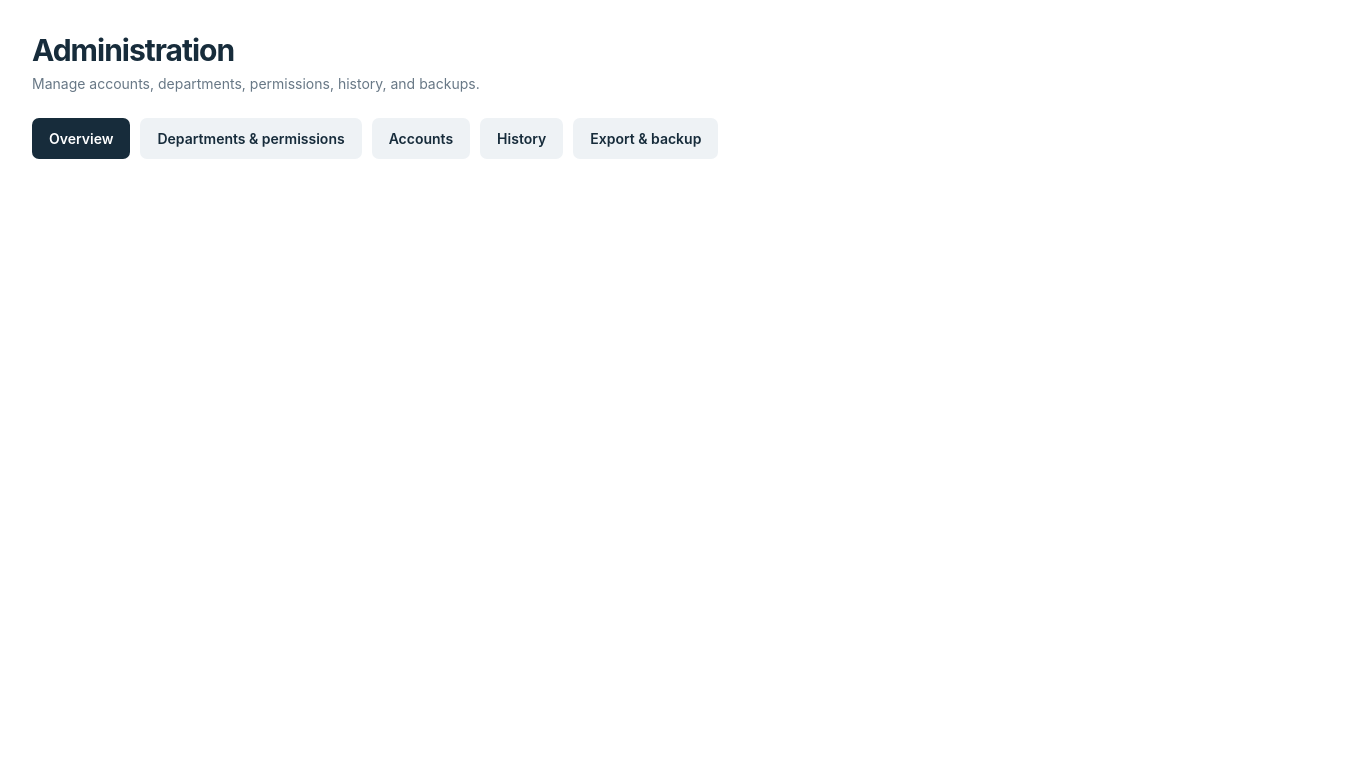
Test: admin can disable and enable an account with explicit confirmation
Click the tab "Accounts".
click(421, 138)  # box [372,118,470,159]
(page scrolled)
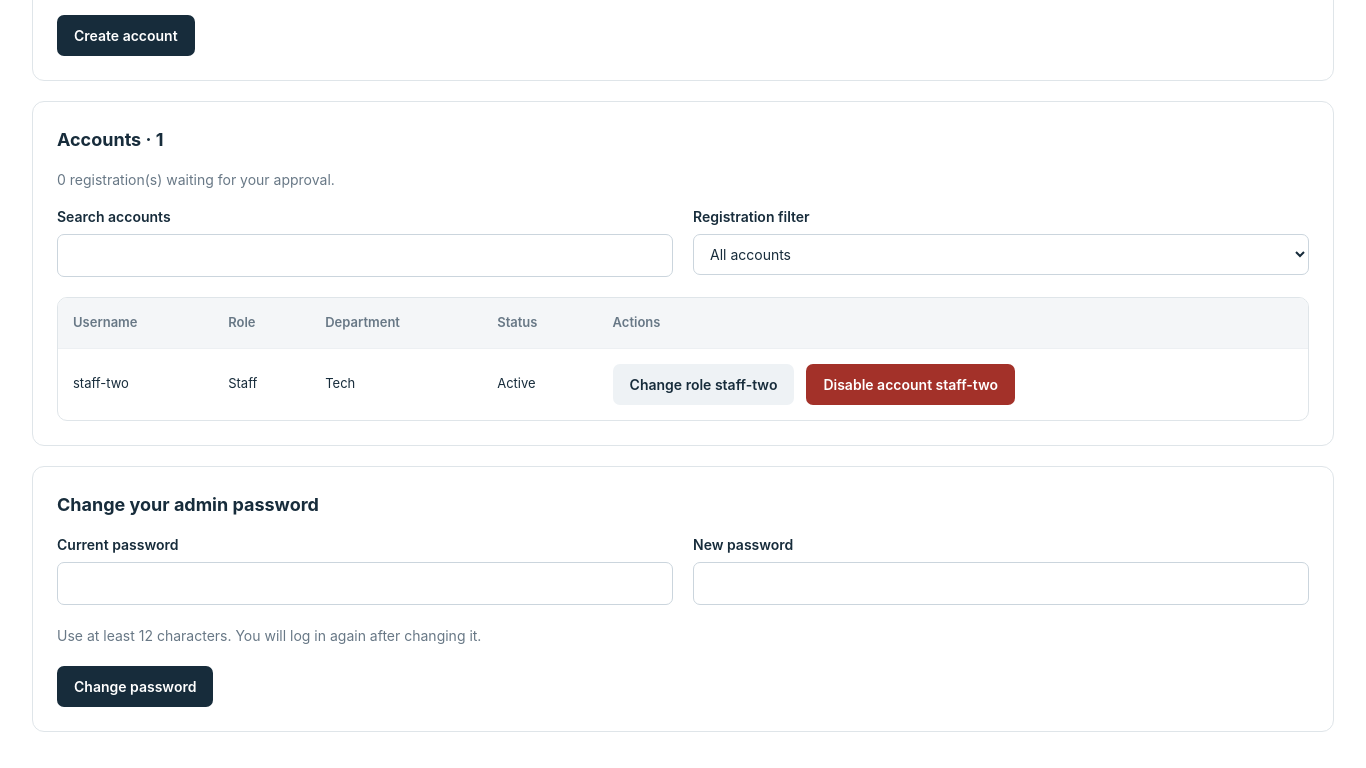
Click the button "Disable account staff-two".
click(911, 384)  # box [806,364,1015,404]
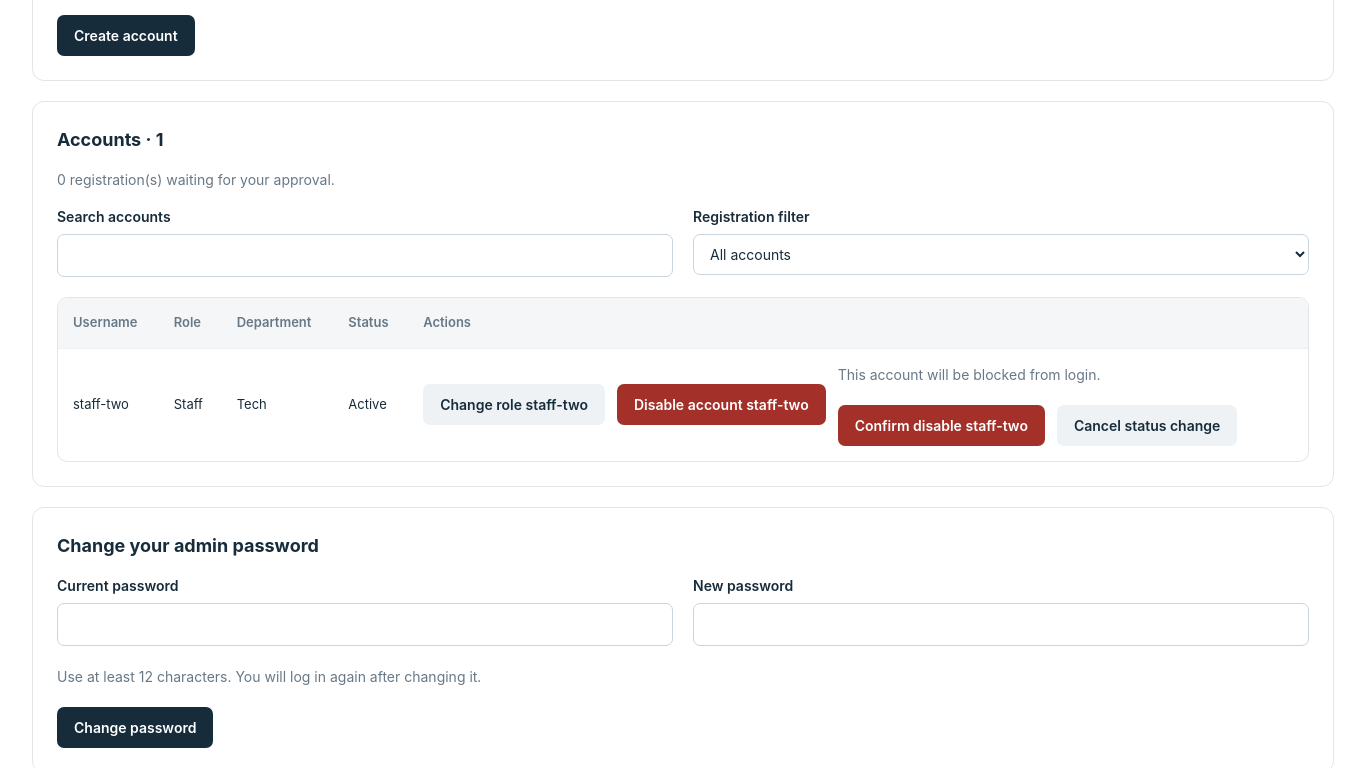
Click the button "Confirm disable staff-two".
click(941, 425)  # box [838,404,1045,446]
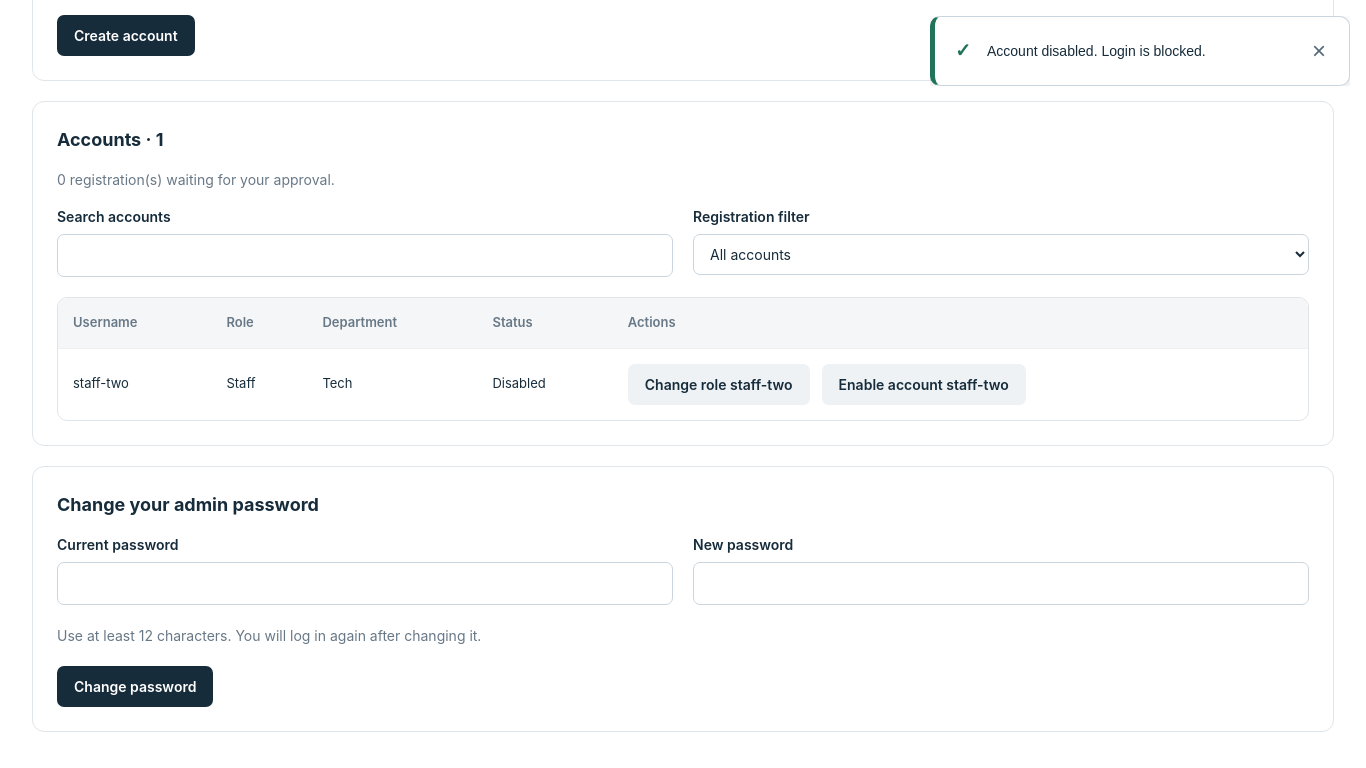
Check: the text "Account disabled. Login is blocked." is shown, box [987,42,1206,58]
Click the button "Enable account staff-two".
click(924, 384)  # box [822,364,1026,404]
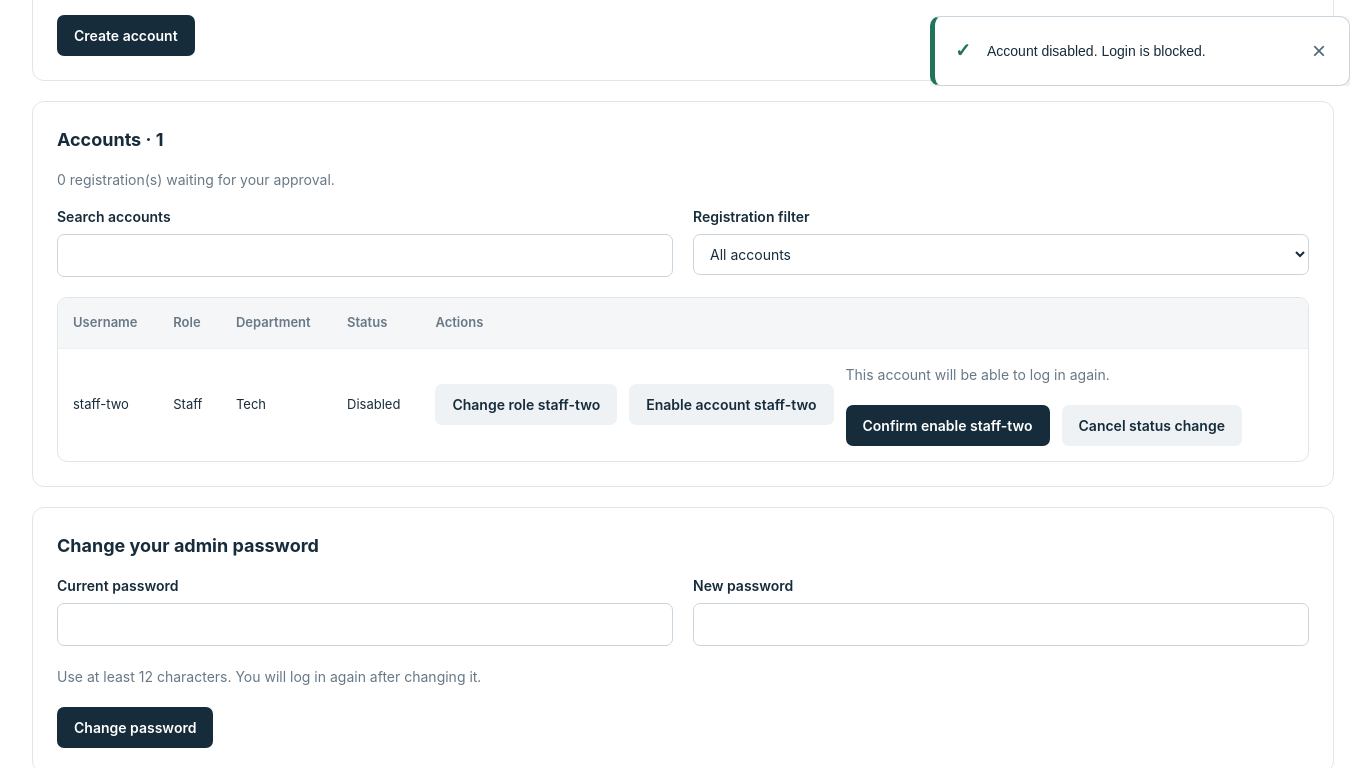
Click the button "Confirm enable staff-two".
click(948, 425)  # box [846,404,1050,446]
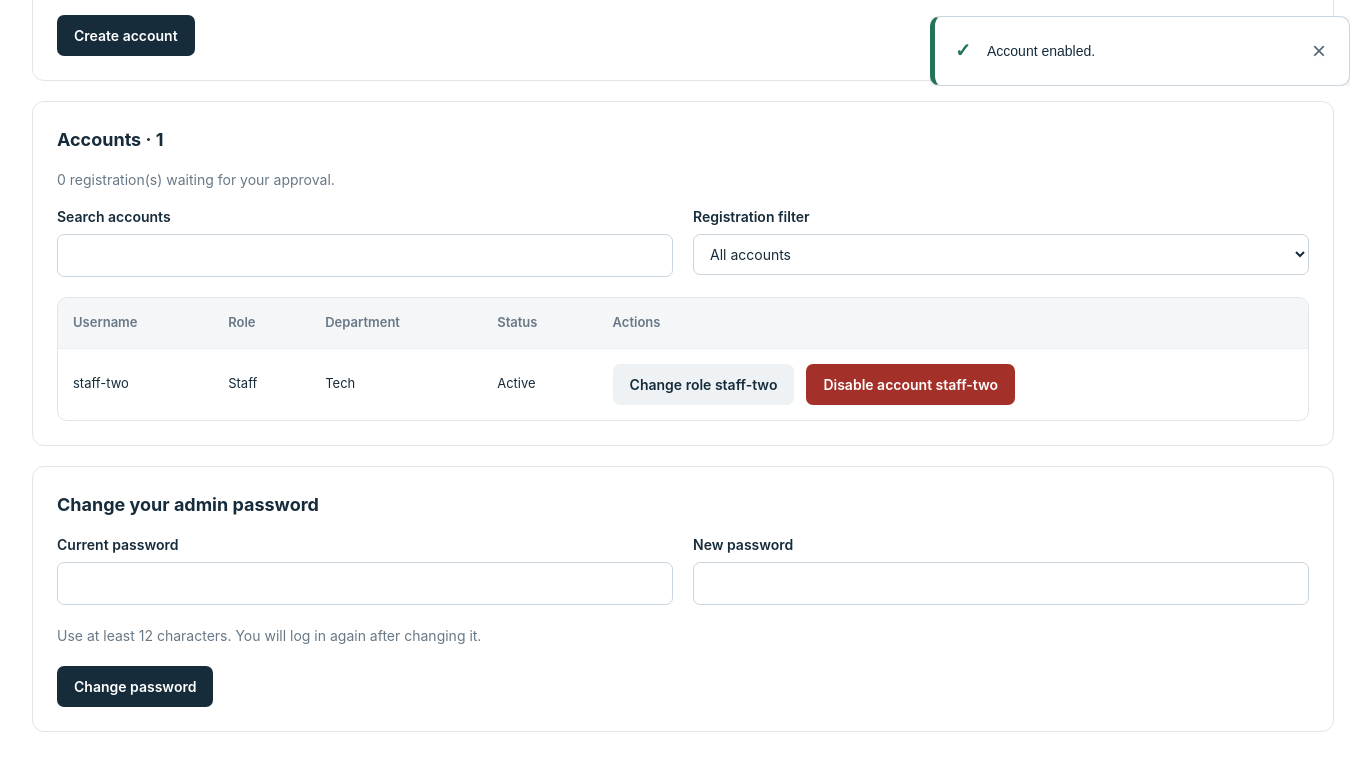
Check: the text "Account enabled." is shown, box [987,42,1095,58]
